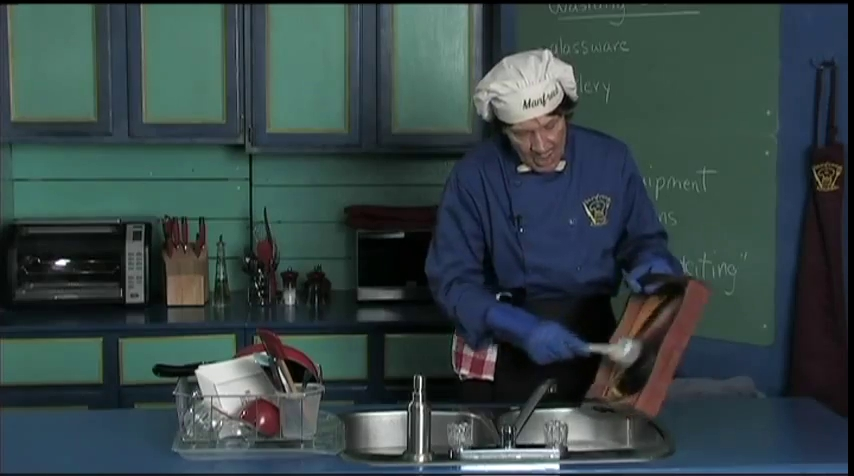person: (424, 49, 684, 402)
